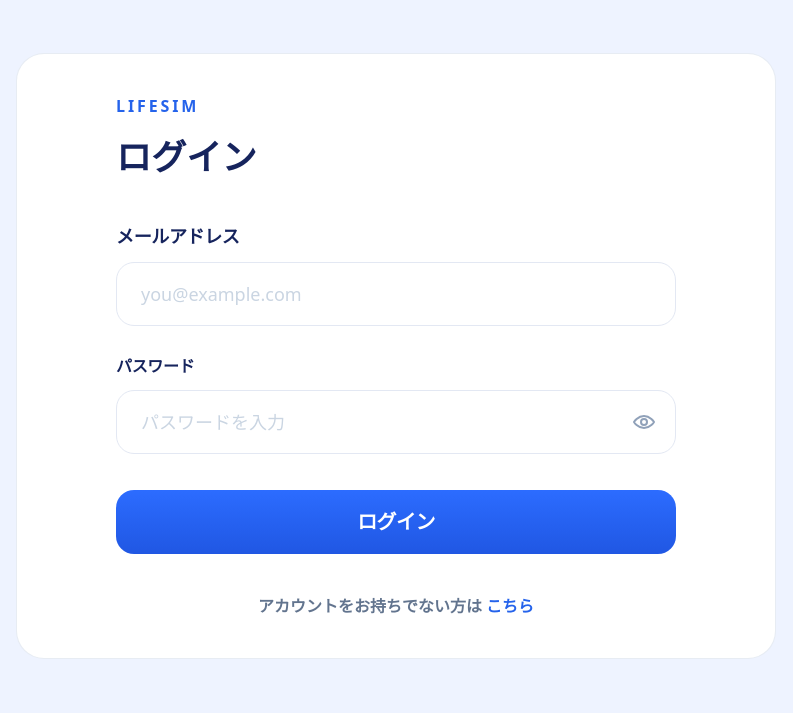
Test case: LoginPage › 【異常系】メールアドレス未入力で送信した場合はバリデーションエラーが表示されること
What coordinates should you click on to do the following:
click the button "ログイン"
I would click on:
 (396, 522)
Its box is [116,490,676,554].
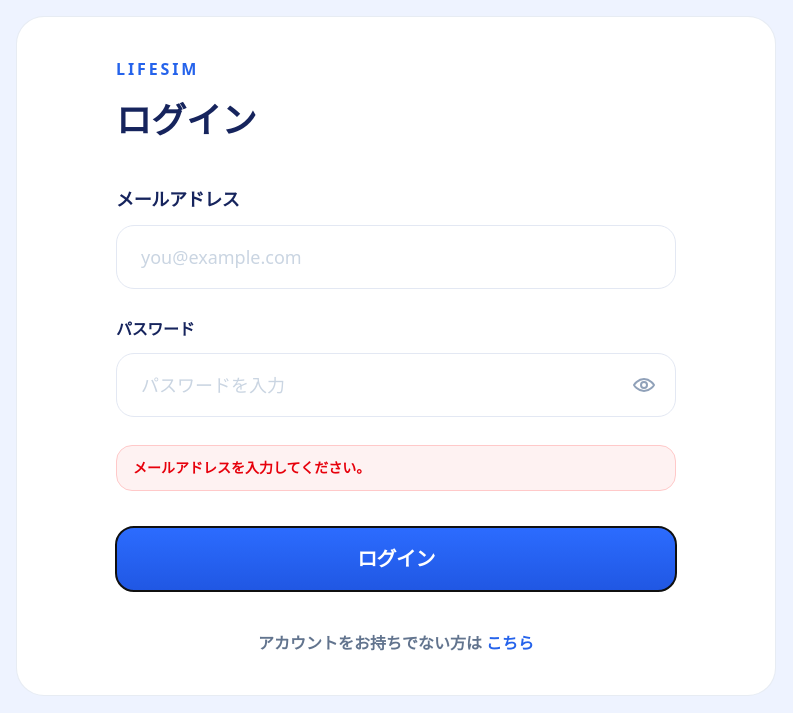
Now the text "メールアドレスを入力してください。" is shown, box [116,445,676,491]
